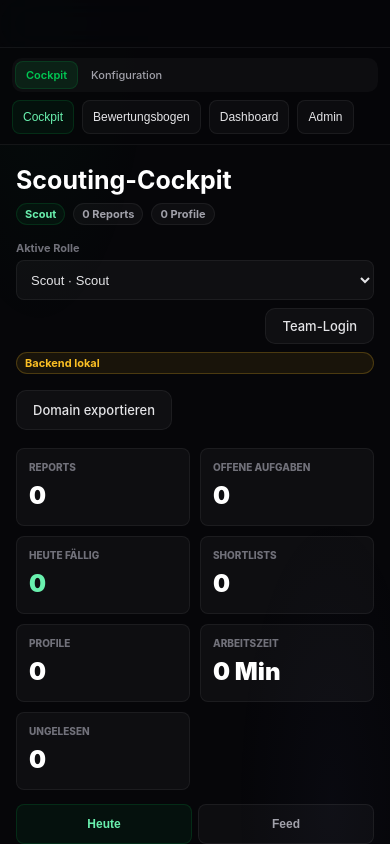
ScoutX Integration › zeigt veröffentlichte Team-Planung im Cockpit-Feed
This screenshot has width=390, height=844.
Expected: the heading "Scouting-Cockpit" is shown, [16,165,232,195]
Click the button "Feed".
click(286, 824)  # box [198,804,374,843]
(page scrolled)
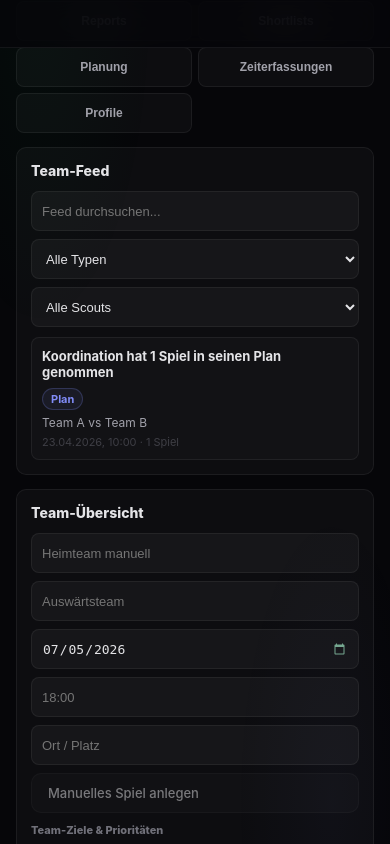
Expected: the text "Koordination hat 1 Spiel in seinen Plan genommen" is shown, [42,348,281,380]
Expected: the text "Team A vs Team B" is shown, [42,415,147,430]
